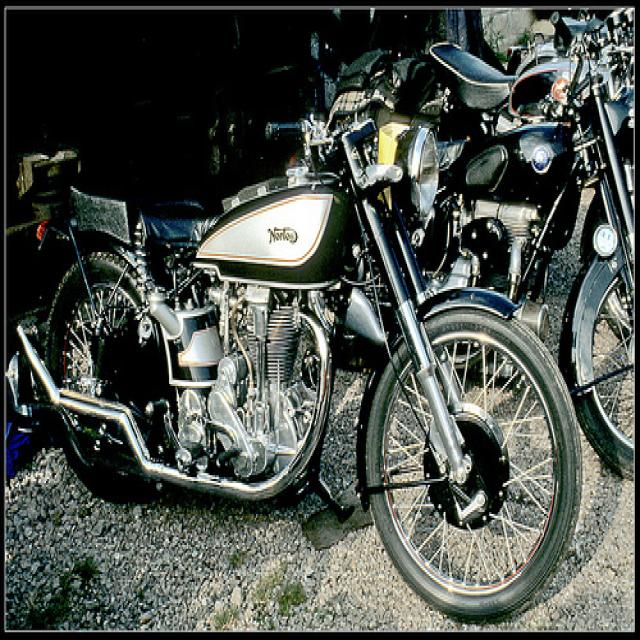motor: (7, 81, 583, 618), (402, 38, 639, 471)
